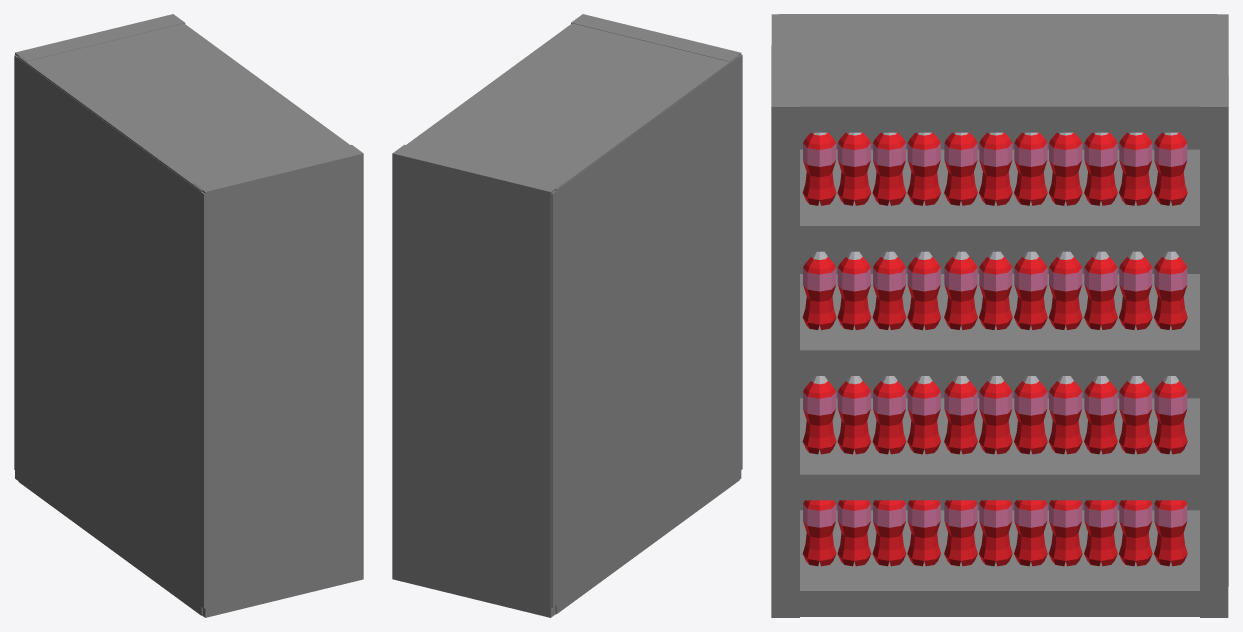
Rendered from sparberry_shelf.gltf.
3 views of the same model, side by side, from view 1: azimuth 30°, elevation 25°; view 2: azimuth 150°, elevation 25°; view 3: azimuth 270°, elevation 25° (orthographic). The views are drawn at different scales.
Parts seen in each view (by area): view 1: Cube.005; view 2: Cube.005; view 3: Cube.005, Cube.019_Cube.028, Cube.019_Cube.031, Cube.019_Cube.007, Cube.019_Cube.033, Cube.019_Cube.027, Cube.019_Cube.030, Cube.019_Cube.003, Cube.019_Cube.032.
Boxes of the visible parts, left/top/right/bottom form: Cube.005: left=14, top=14, right=363, bottom=617; Cube.005: left=392, top=14, right=742, bottom=617; Cube.005: left=771, top=14, right=1228, bottom=617; Cube.019_Cube.028: left=837, top=251, right=1187, bottom=330; Cube.019_Cube.031: left=837, top=376, right=1187, bottom=454; Cube.019_Cube.007: left=837, top=132, right=1187, bottom=205; Cube.019_Cube.033: left=837, top=500, right=1187, bottom=566; Cube.019_Cube.027: left=802, top=251, right=836, bottom=329; Cube.019_Cube.030: left=802, top=376, right=836, bottom=454; Cube.019_Cube.003: left=802, top=132, right=836, bottom=205; Cube.019_Cube.032: left=802, top=500, right=836, bottom=566.
Bounding box in the file's own units: 4.03 × 10.28 × 8.34.
Materials: 4 (1 with a texture image).
